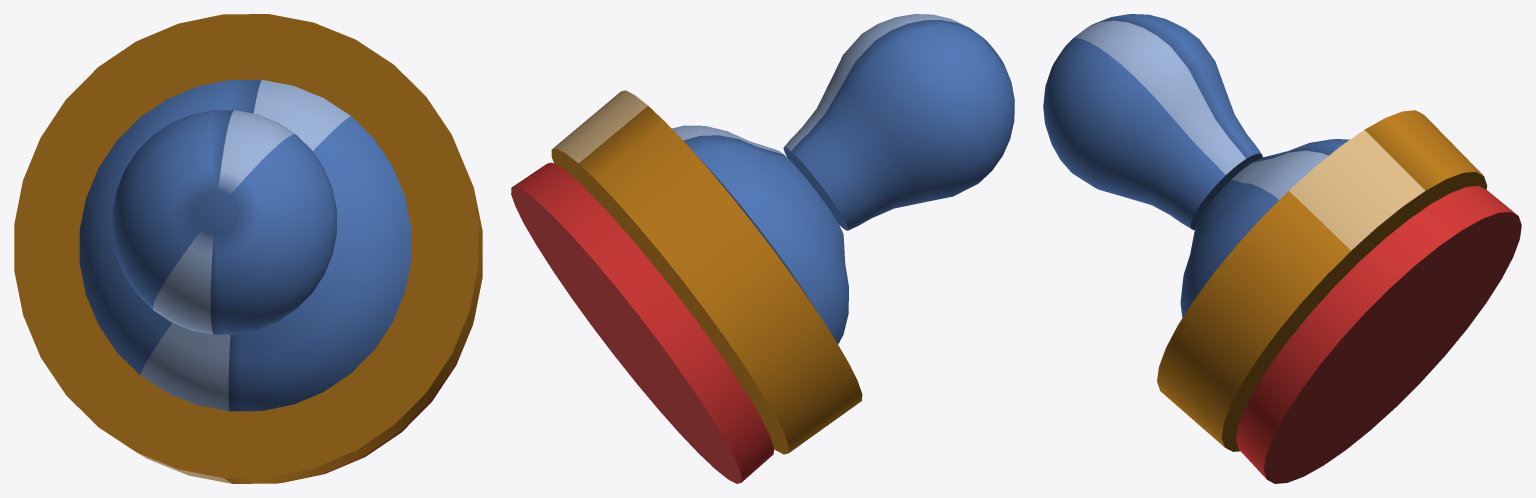
The model's file is tool_stamp.glb.
The picture shows the model from 3 angles, left to right: view 1: azimuth 30°, elevation 25°; view 2: azimuth 150°, elevation 25°; view 3: azimuth 270°, elevation 25°; orthographic projection. The views are drawn at different scales.
Visible parts, largest first — view 1: Stamp; view 2: Stamp; view 3: Stamp.
Boxes of the visible parts, <box> form: Stamp: <box>14,14,482,483</box>; Stamp: <box>511,14,1014,483</box>; Stamp: <box>1043,14,1521,483</box>.
Size of the model in its own units: 4.36 by 4.35 by 4.83.
